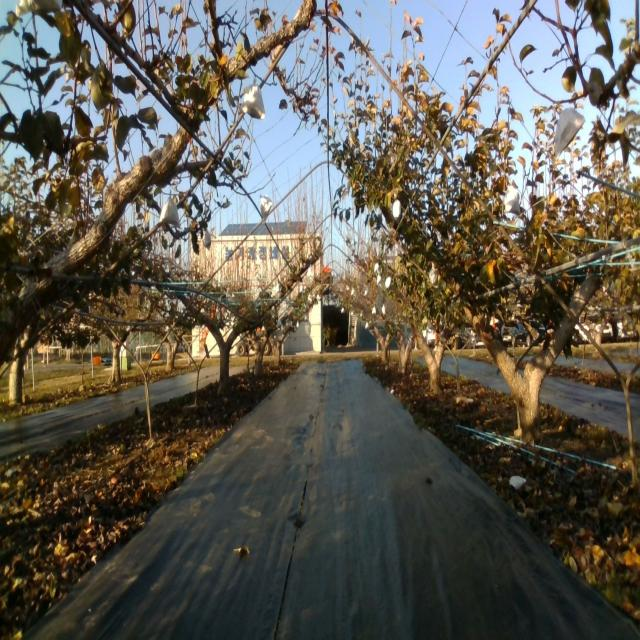pearbags: (555, 108, 585, 160), (241, 80, 265, 119), (158, 193, 179, 227), (504, 186, 520, 212), (260, 195, 273, 224), (391, 199, 402, 223)
